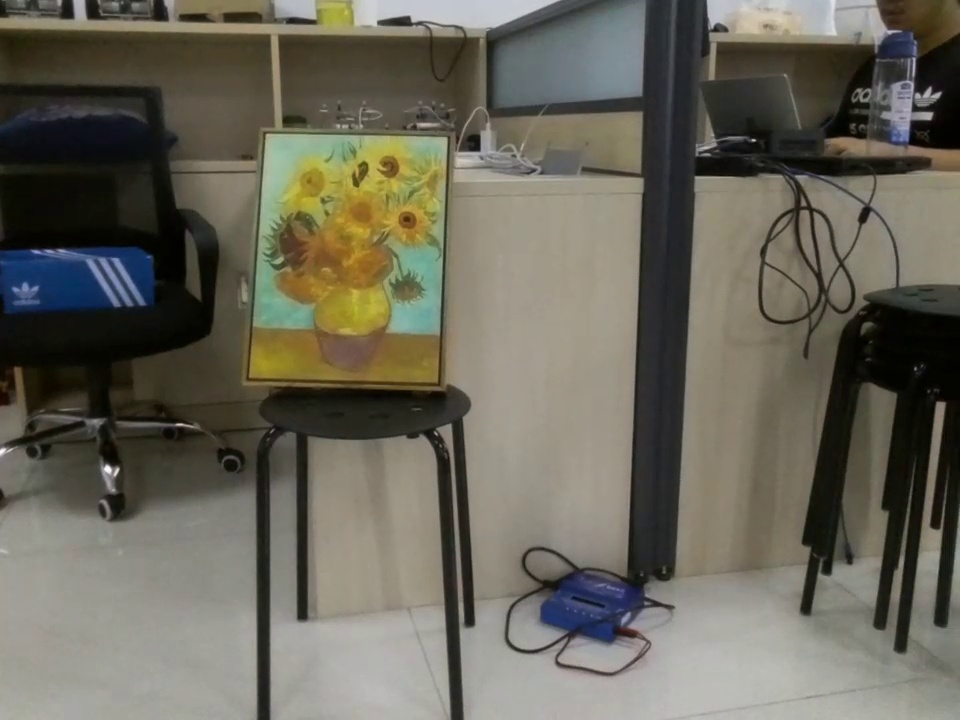painting: (243, 126, 457, 396)
